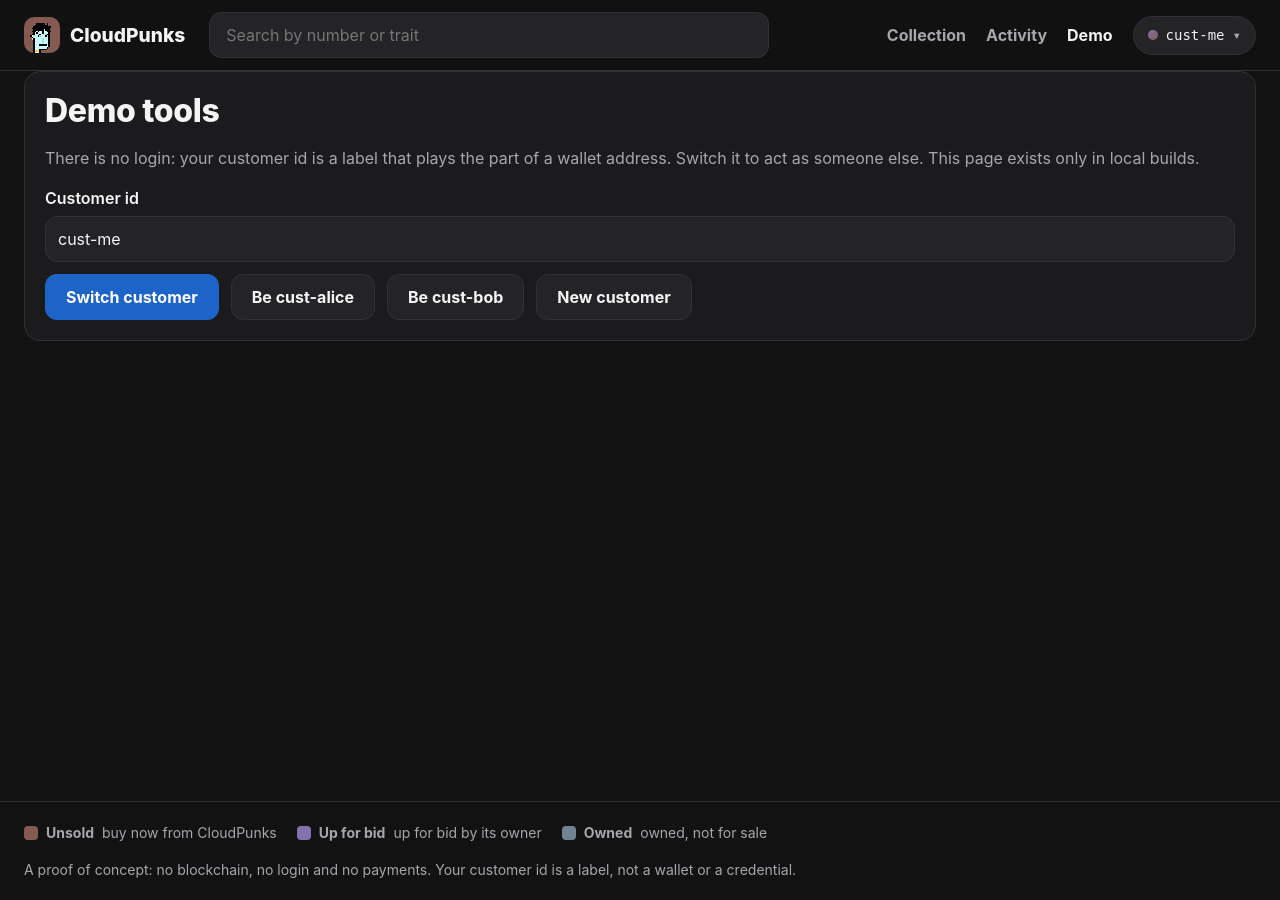
demo tools › switches the customer, which the header and storage follow
The width and height of the screenshot is (1280, 900).
Click the button "Be cust-bob" at (456, 297), box [387,274,524,320]
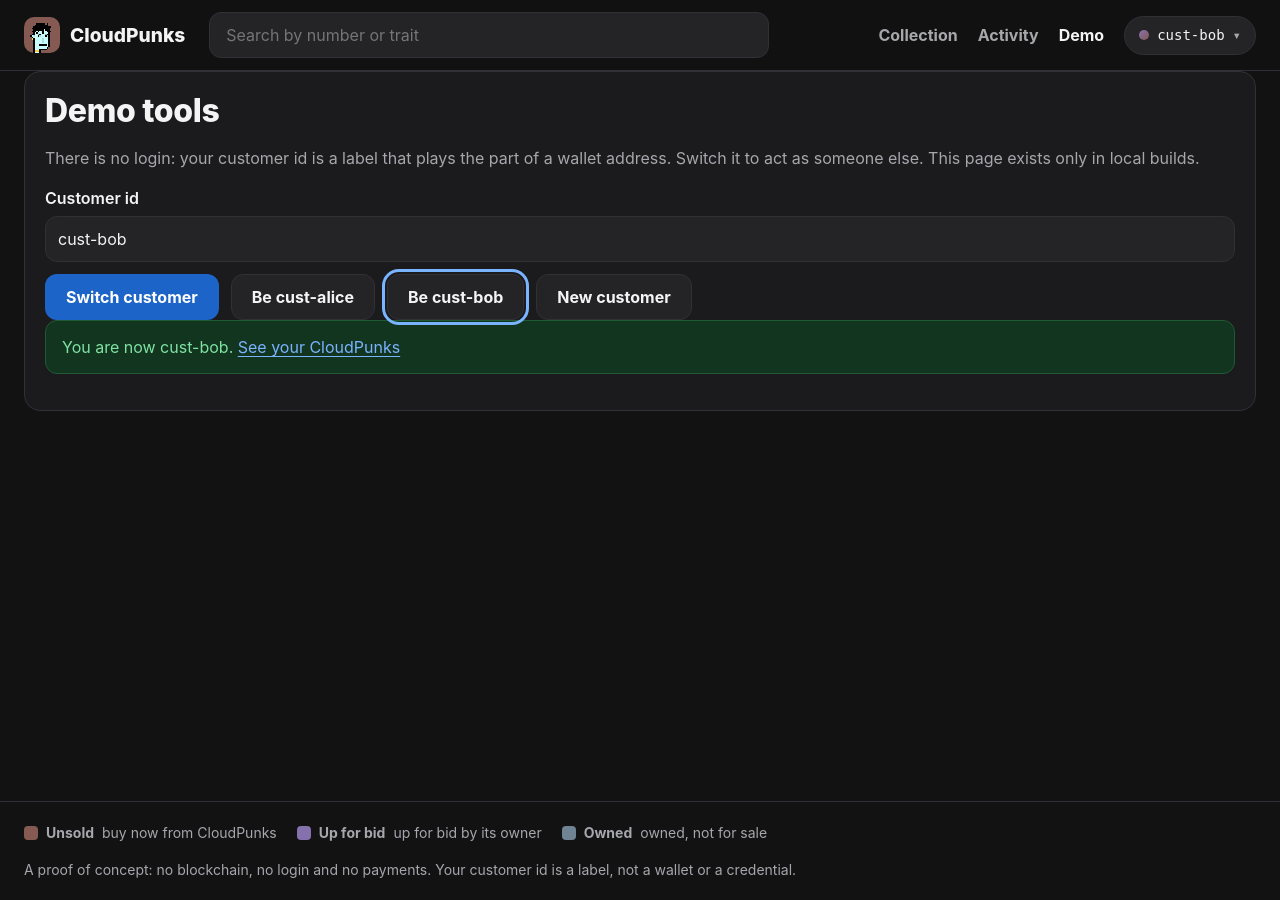
Expected: the text "You are now cust-bob. See your CloudPunks" is shown, [45,320,1235,374]
Expected: the heading with test id "customer-menu" reads "cust-bob", [1124,16,1256,54]
